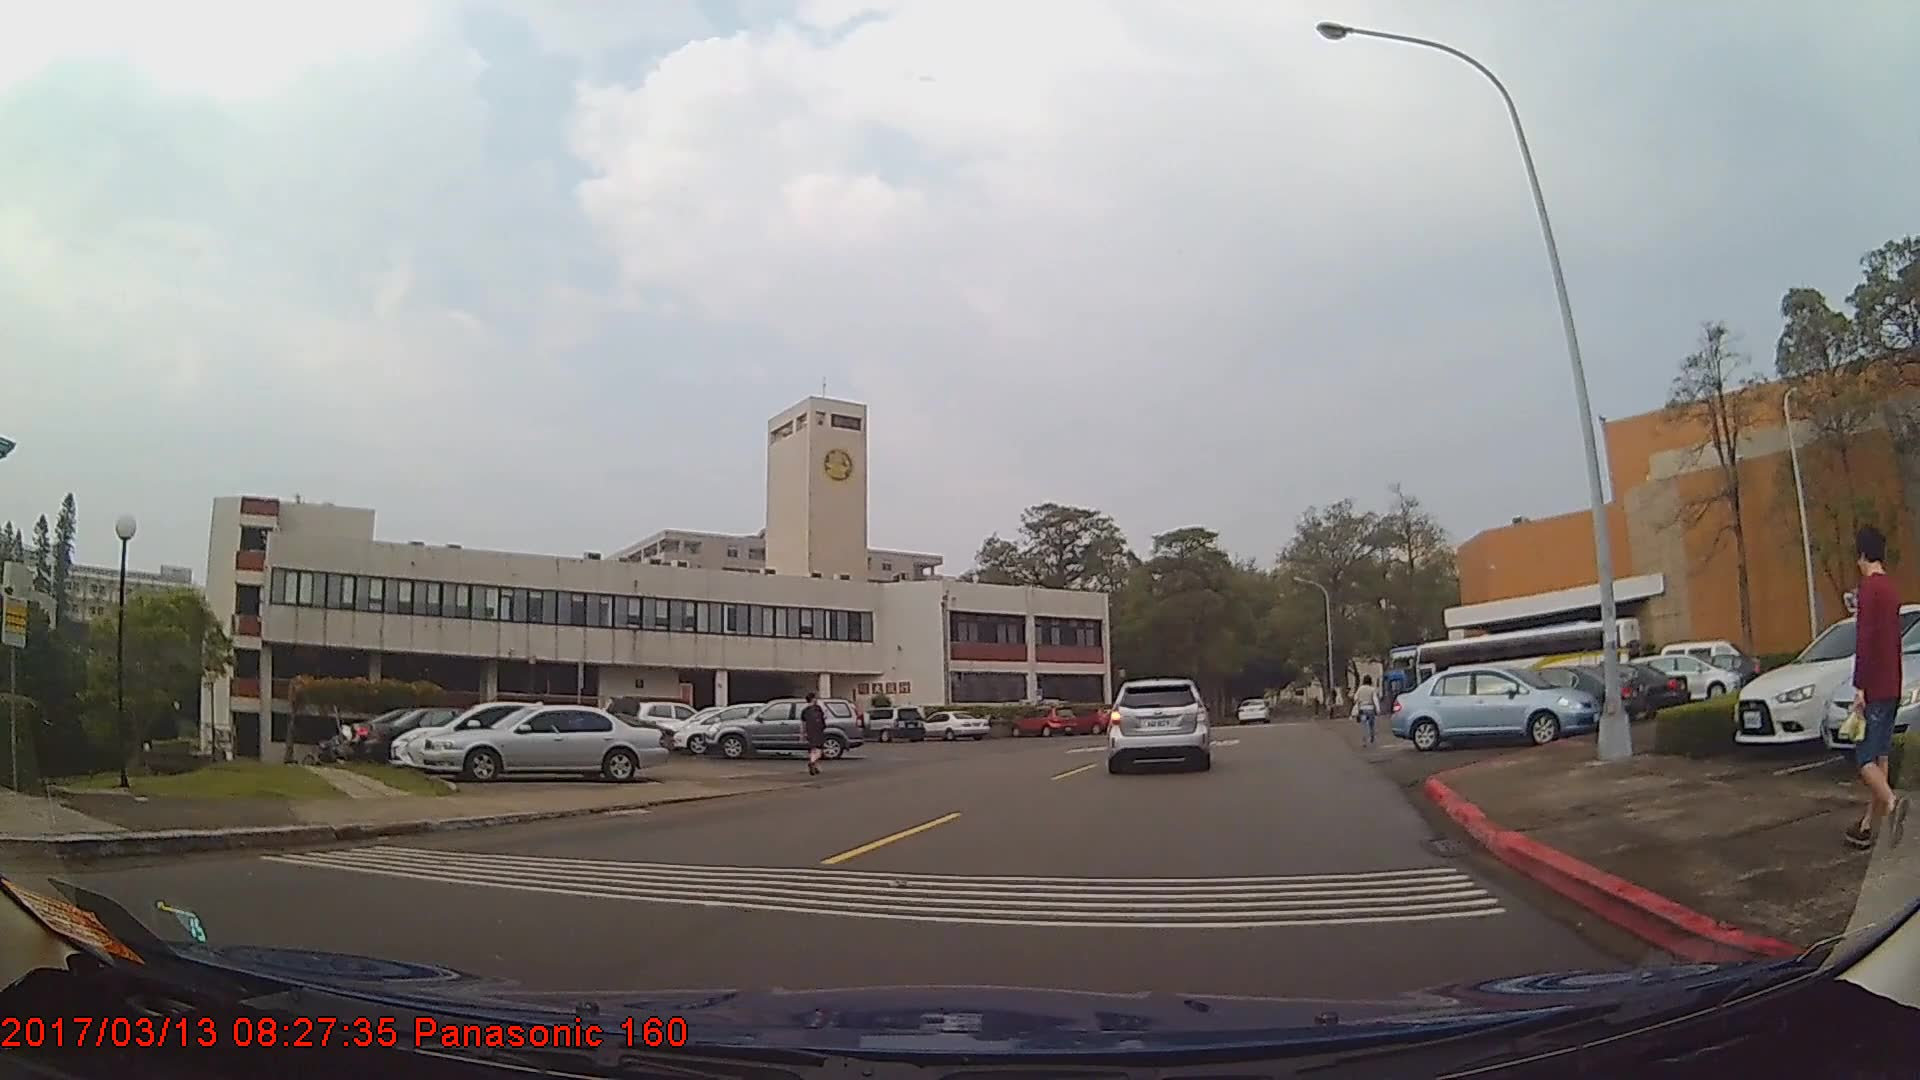pedestrian: (1833, 528, 1911, 850), (799, 691, 831, 775), (1352, 674, 1381, 745)
vehicle: (1730, 605, 1920, 746), (418, 702, 667, 781), (1389, 665, 1601, 748), (382, 699, 602, 773), (1456, 666, 1645, 729), (704, 698, 868, 762), (364, 704, 534, 766), (1109, 675, 1209, 774), (1530, 662, 1688, 716), (671, 700, 805, 754), (1624, 652, 1742, 704), (635, 701, 709, 742), (859, 706, 924, 744), (1007, 704, 1077, 740), (918, 711, 988, 742), (1235, 696, 1269, 726)
